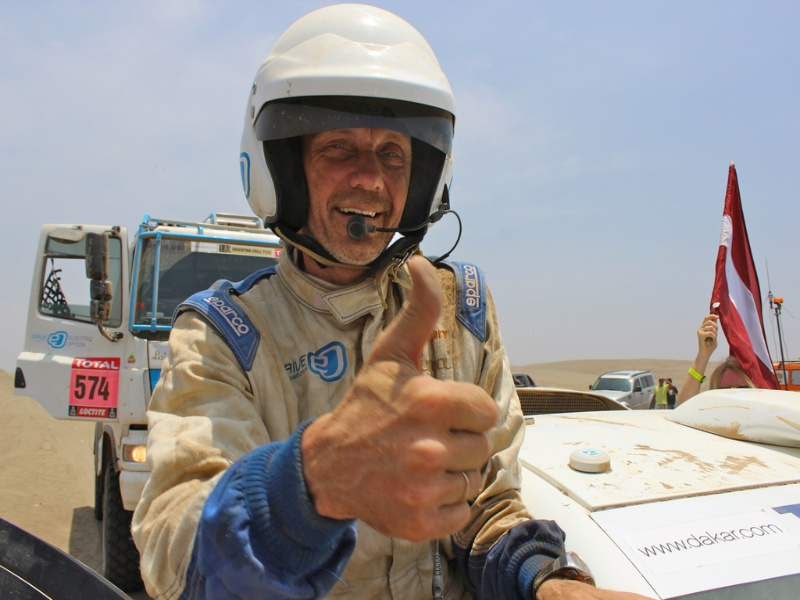Baret: (243, 2, 456, 137)
